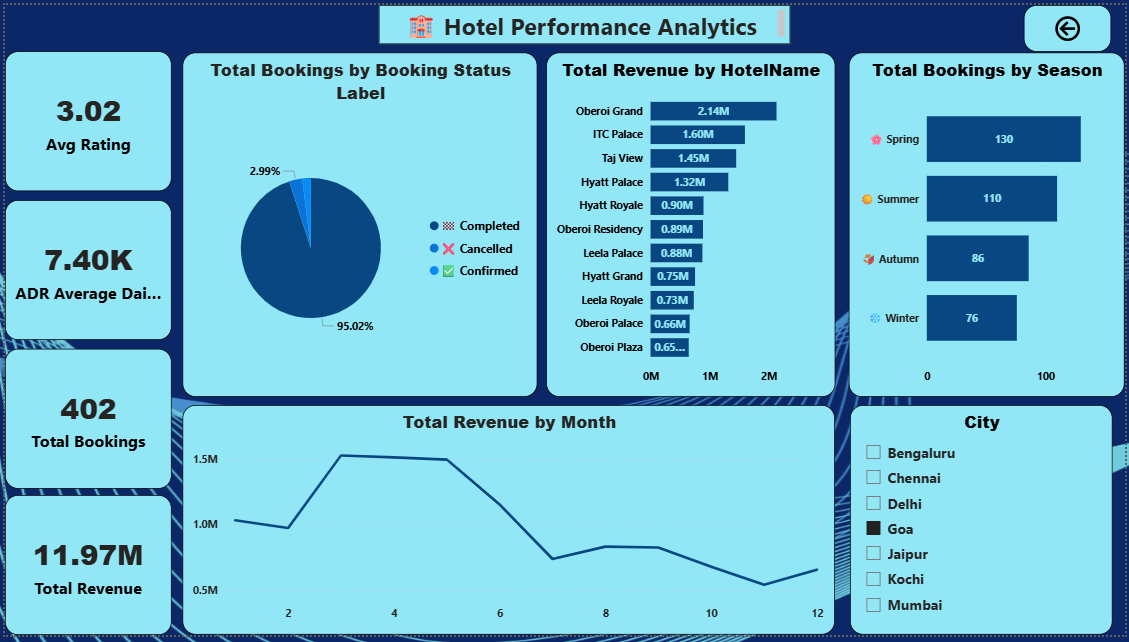

The dashboard page shown, as its layout file describes it:
{"tool":"powerbi","page":{"name":"Hotel Performance","canvas":[1280,720],"ordinal":1},"visuals":[{"type":"textbox","title":"🏨 Hotel Performance Analytics","box":[427.1,0,470.3,44.7],"z":0},{"type":"card","fields":{"Values":["Hotel Bookings.Avg Rating"]},"box":[0,53.4,190.4,160.1],"z":1000},{"type":"card","fields":{"Values":["Hotel Bookings.Total Bookings"]},"box":[0,392.4,190.4,160.1],"z":2000},{"type":"card","fields":{"Values":["Hotel Bookings.ADR Average Daily Rate"]},"box":[0,222.2,190.4,160.1],"z":3000},{"type":"card","fields":{"Values":["Hotel Bookings.Total Revenue"]},"box":[0,560,190,160],"z":4000},{"type":"clusteredBarChart","fields":{"Category":["Hotels.HotelName"],"Y":["Hotel Bookings.Total Revenue"]},"box":[618.8,53.8,330.2,393.8],"z":5000},{"type":"pieChart","fields":{"Category":["Hotel Bookings.Booking Status Label"],"Y":["Hotel Bookings.Total Bookings"]},"box":[203,53.8,406,393.8],"z":6000},{"type":"clusteredBarChart","fields":{"Category":["Hotel Bookings.Season"],"Y":["Hotel Bookings.Total Bookings"]},"box":[964.8,53.8,315.5,393.8],"z":7000},{"type":"lineChart","title":"Total Revenue by Month","fields":{"Category":["Date Table.Month Number","Date Table.Month Name"],"Y":["Hotel Bookings.Total Revenue"]},"box":[203.4,457.4,745.9,262.6],"z":8000},{"type":"slicer","title":"City","fields":{"Values":["Hotels.City"]},"box":[965.2,457.4,300.1,262.6],"z":9000},{"type":"actionButton","box":[1164.1,0,100.3,53.8],"z":9001}]}

Visuals, with their boxes in screenshot pixels (x1, y1, x2, y2), scaled from the page's 1280x720 canvas onto the 1129x642 screenshot:
"🏨 Hotel Performance Analytics" textbox: <box>377,0,792,40</box>
card - Hotel Bookings.Avg Rating: <box>0,48,168,190</box>
card - Hotel Bookings.Total Bookings: <box>0,350,168,493</box>
card - Hotel Bookings.ADR Average Daily Rate: <box>0,198,168,341</box>
card - Hotel Bookings.Total Revenue: <box>0,499,168,641</box>
clusteredBarChart - Hotels.HotelName x Hotel Bookings.Total Revenue: <box>546,48,837,399</box>
pieChart - Hotel Bookings.Booking Status Label x Hotel Bookings.Total Bookings: <box>179,48,537,399</box>
clusteredBarChart - Hotel Bookings.Season x Hotel Bookings.Total Bookings: <box>851,48,1128,399</box>
"Total Revenue by Month" lineChart: <box>179,408,837,641</box>
"City" slicer: <box>851,408,1116,641</box>
actionButton: <box>1027,0,1115,48</box>
